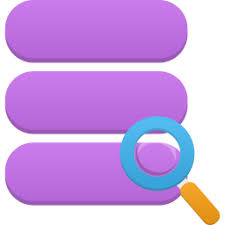searchIcon: (118, 114, 221, 225)
